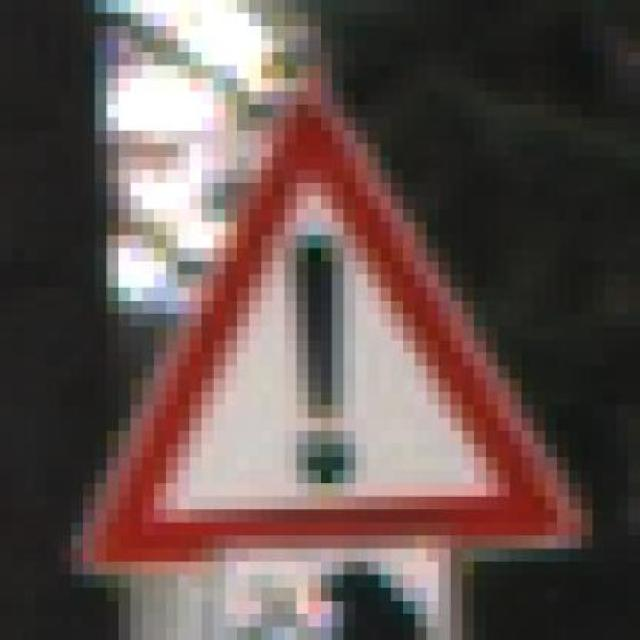Attention Please-: (59, 78, 593, 588)
